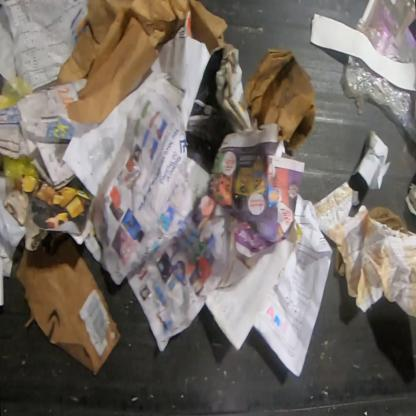cardboard: (55, 0, 226, 124), (16, 238, 120, 376), (242, 48, 316, 152)
soft_plastic: (345, 56, 415, 143), (354, 0, 415, 63), (0, 75, 33, 112), (3, 155, 40, 182)
